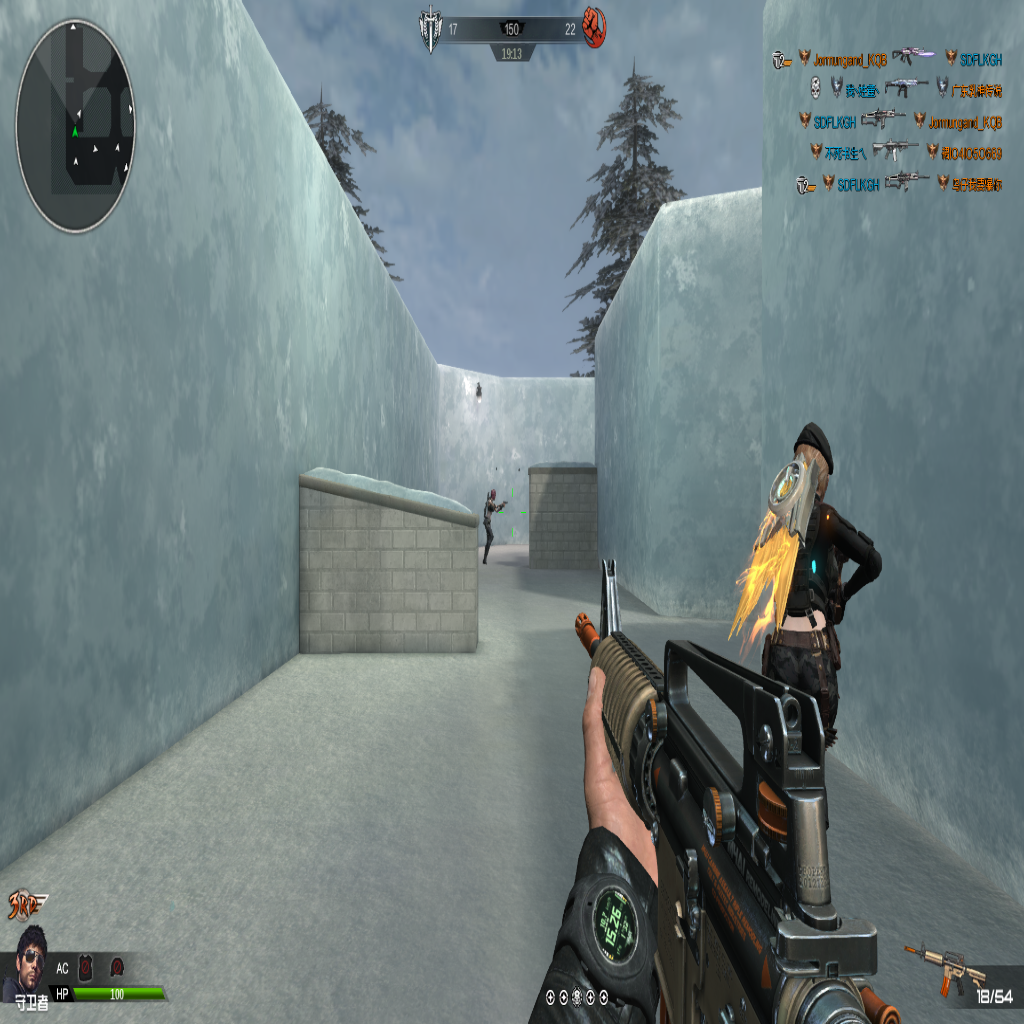ct: (480, 486, 507, 563)
